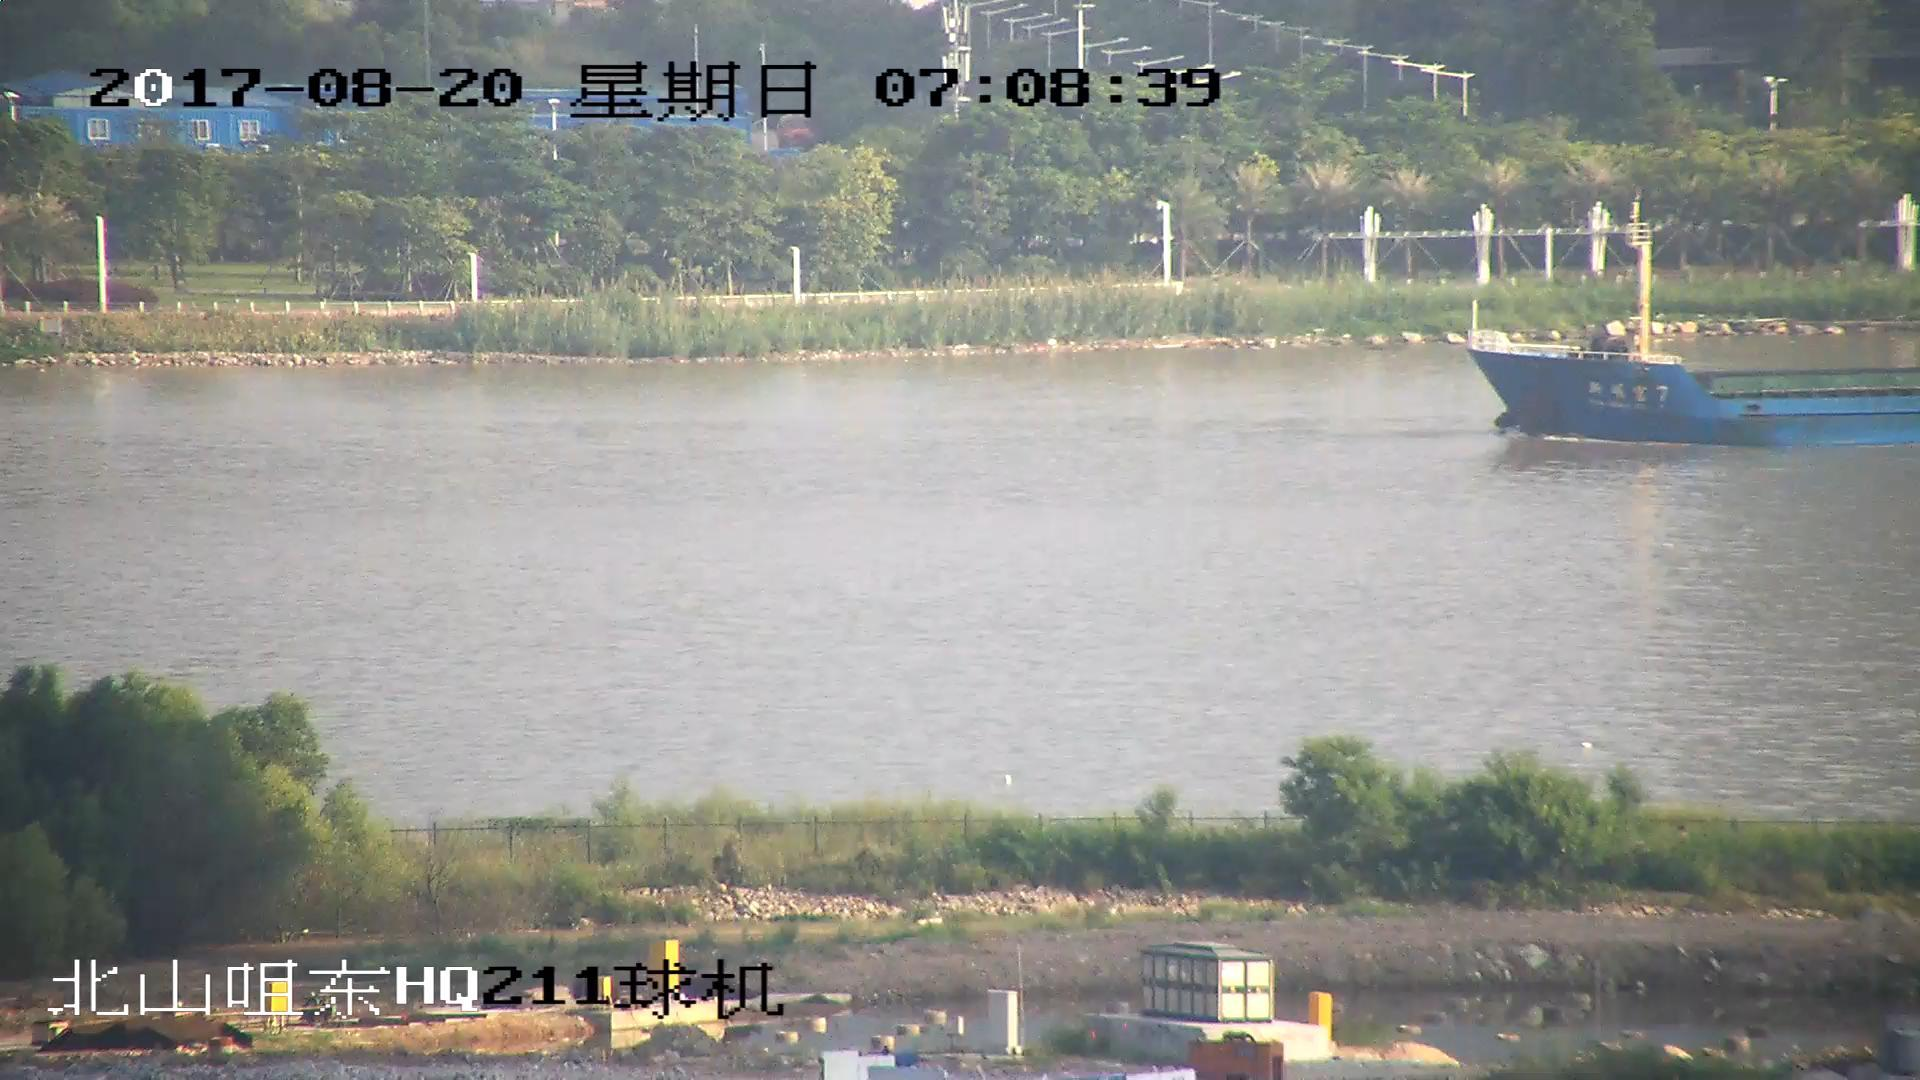Ship: (1464, 233, 1920, 459)
